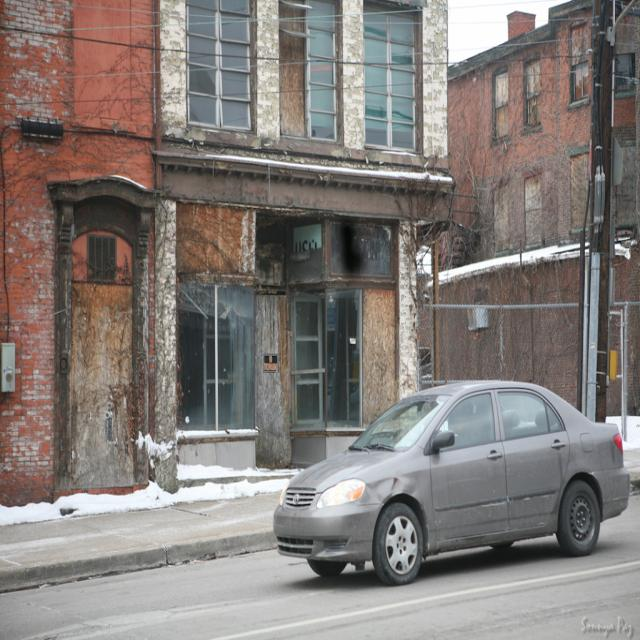car: (256, 381, 635, 593)
